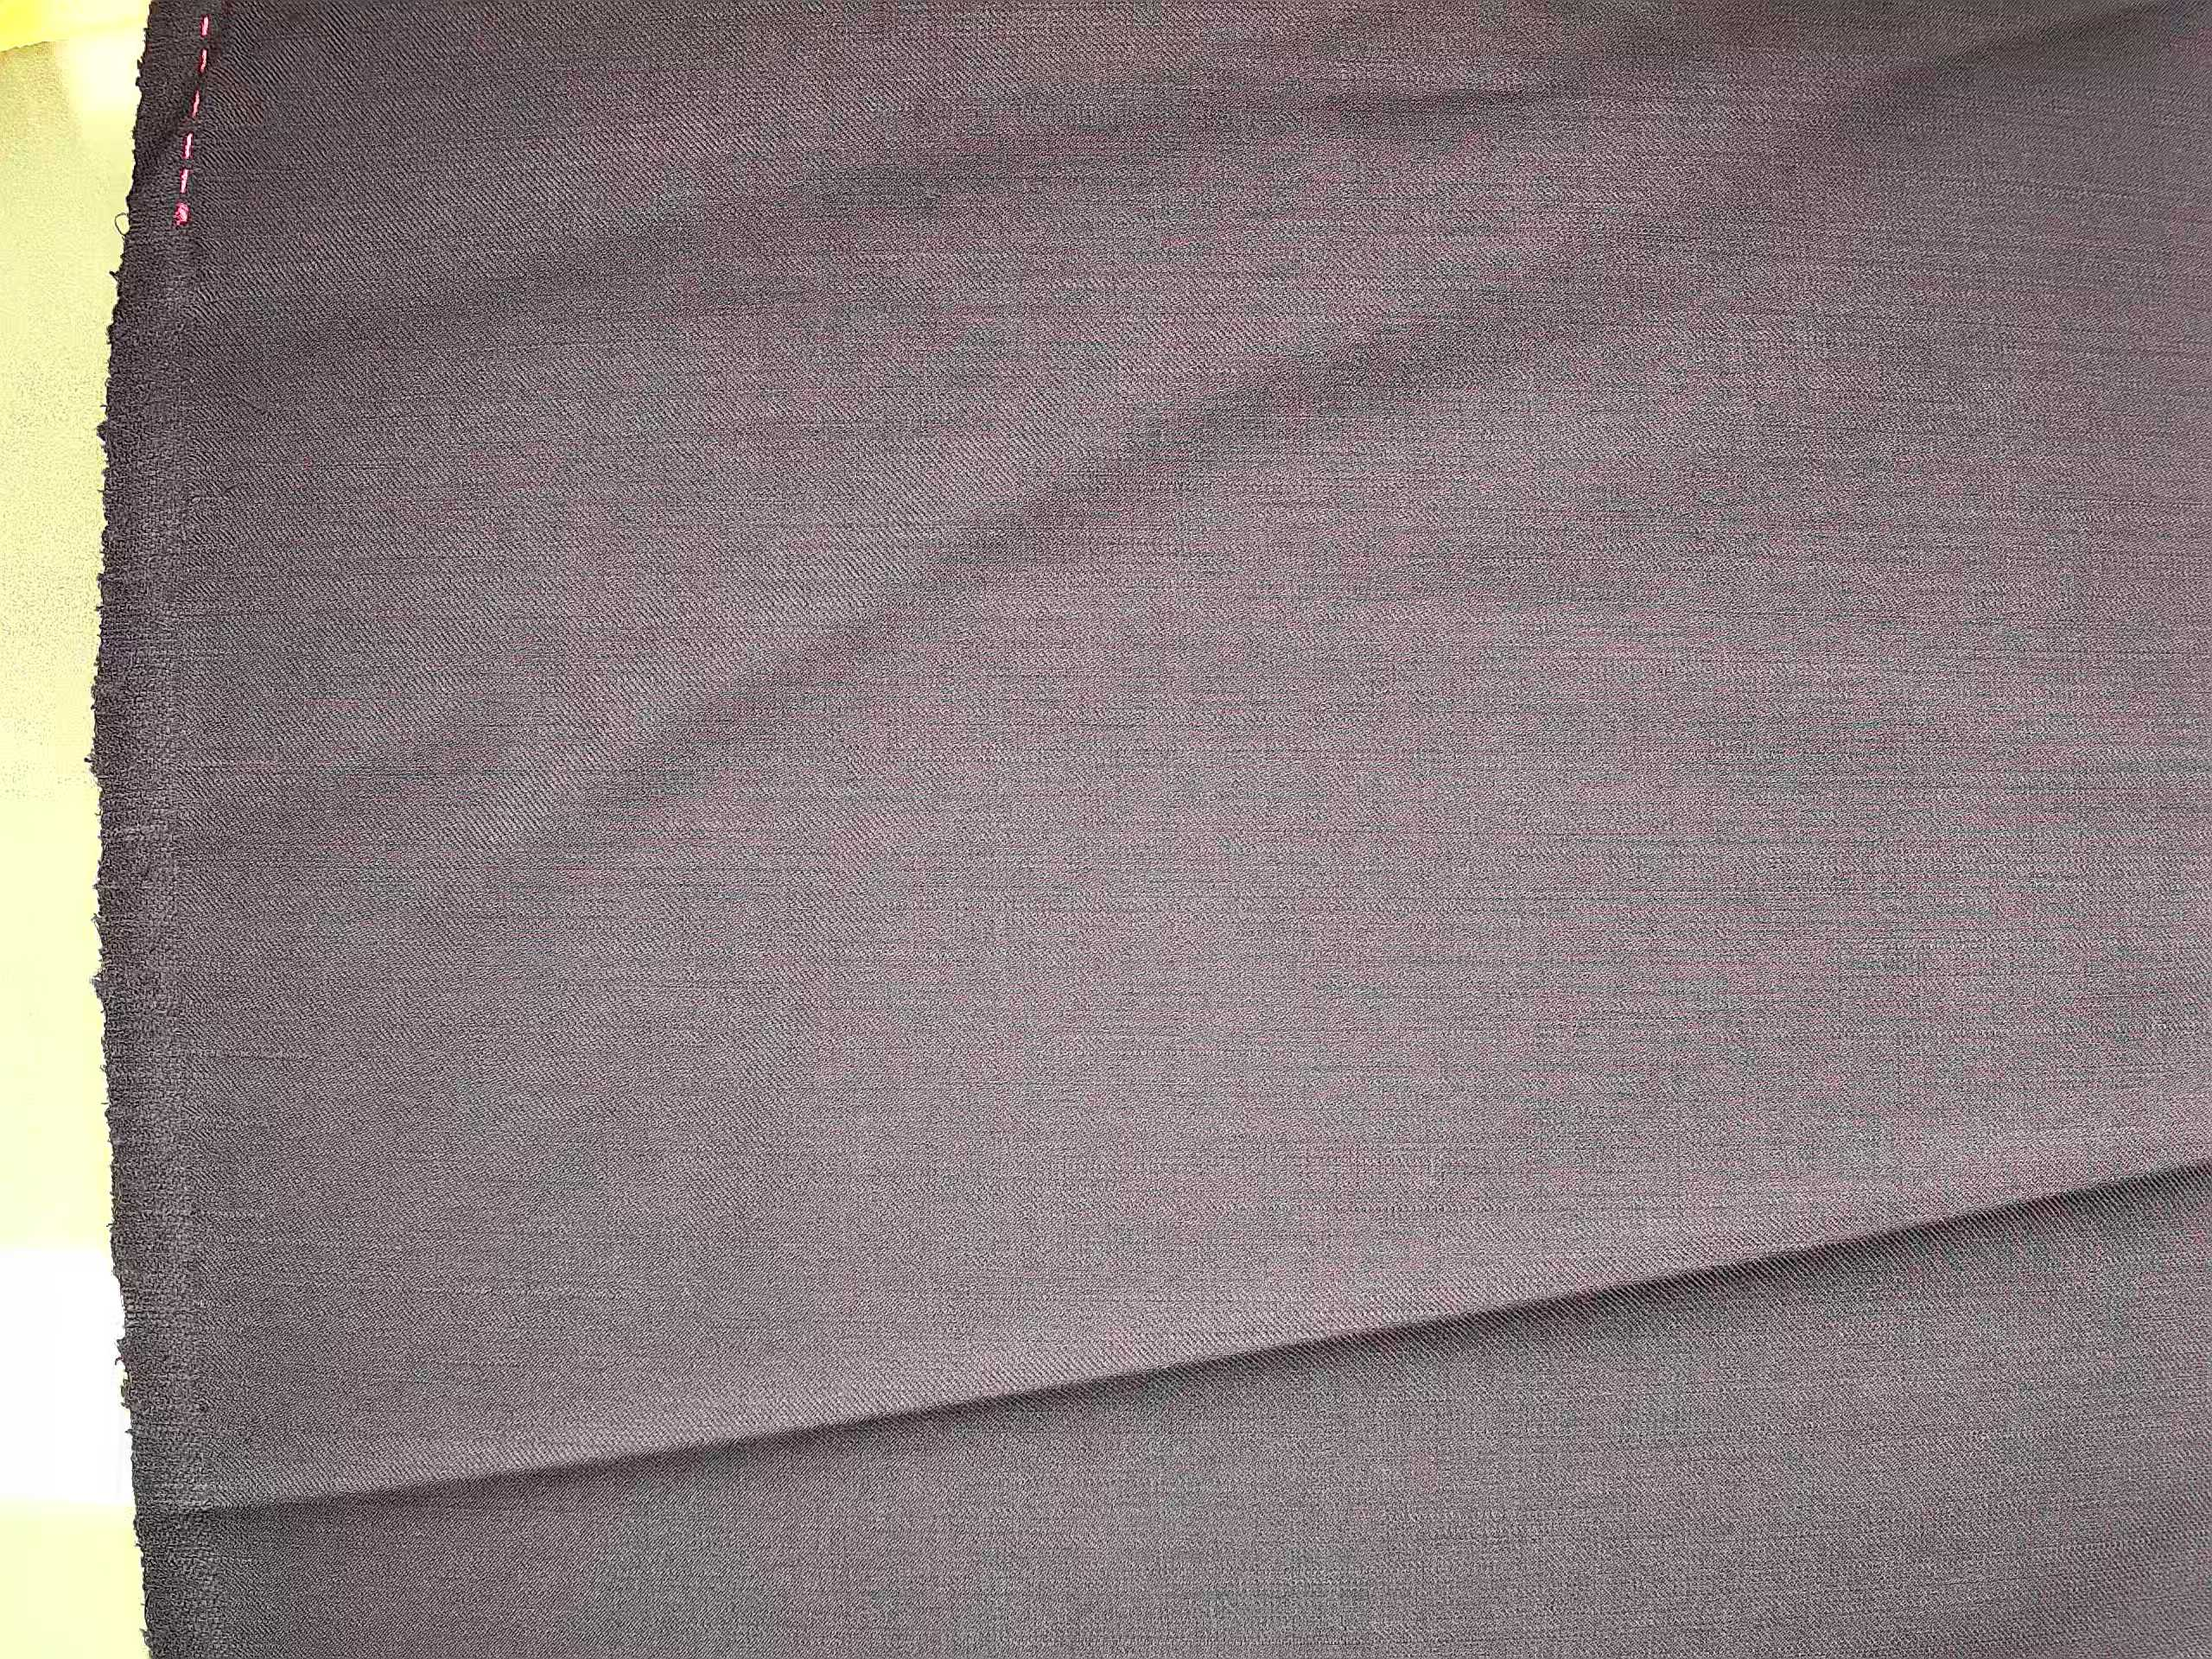others: (176, 239, 211, 681)
